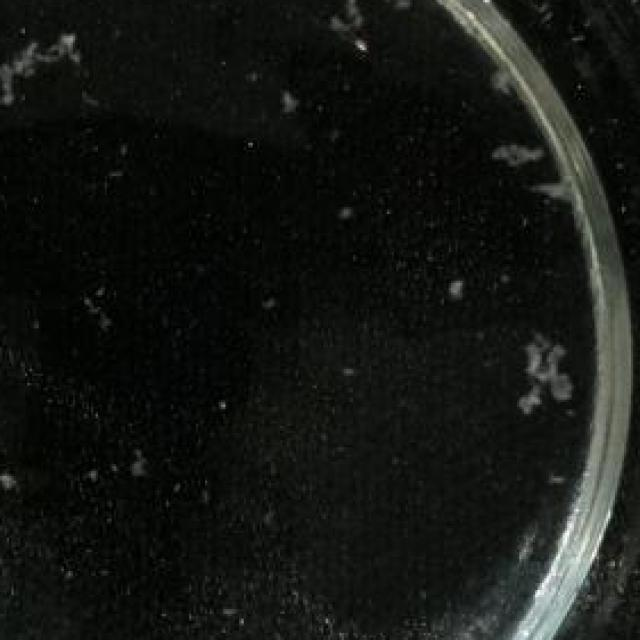Microplastic: (0, 31, 98, 117), (520, 323, 578, 445), (305, 0, 378, 59), (520, 157, 578, 214), (264, 79, 314, 138), (485, 119, 535, 171), (442, 269, 476, 309), (0, 452, 23, 504)
